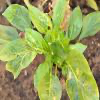Bell_pepper leaf spot: (66, 49, 98, 99), (3, 48, 37, 82), (37, 70, 62, 100)
